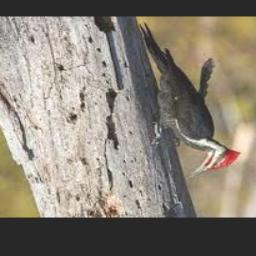Woodpecker: (139, 24, 241, 180)
